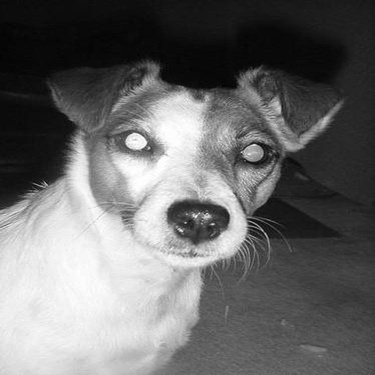dog: (1, 49, 349, 371)
